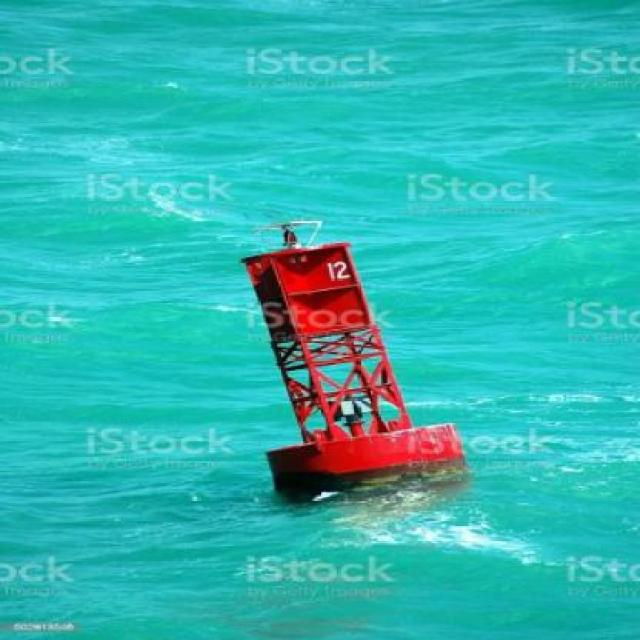buoy: (223, 206, 480, 504)
